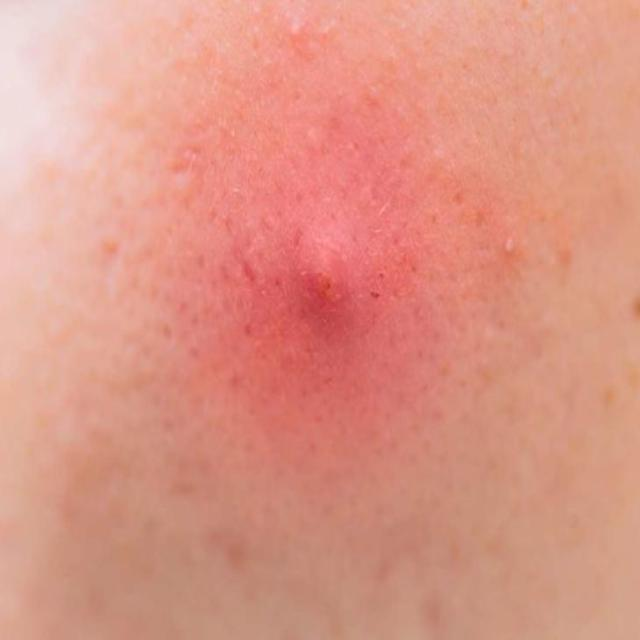Acne: (280, 221, 377, 335)
